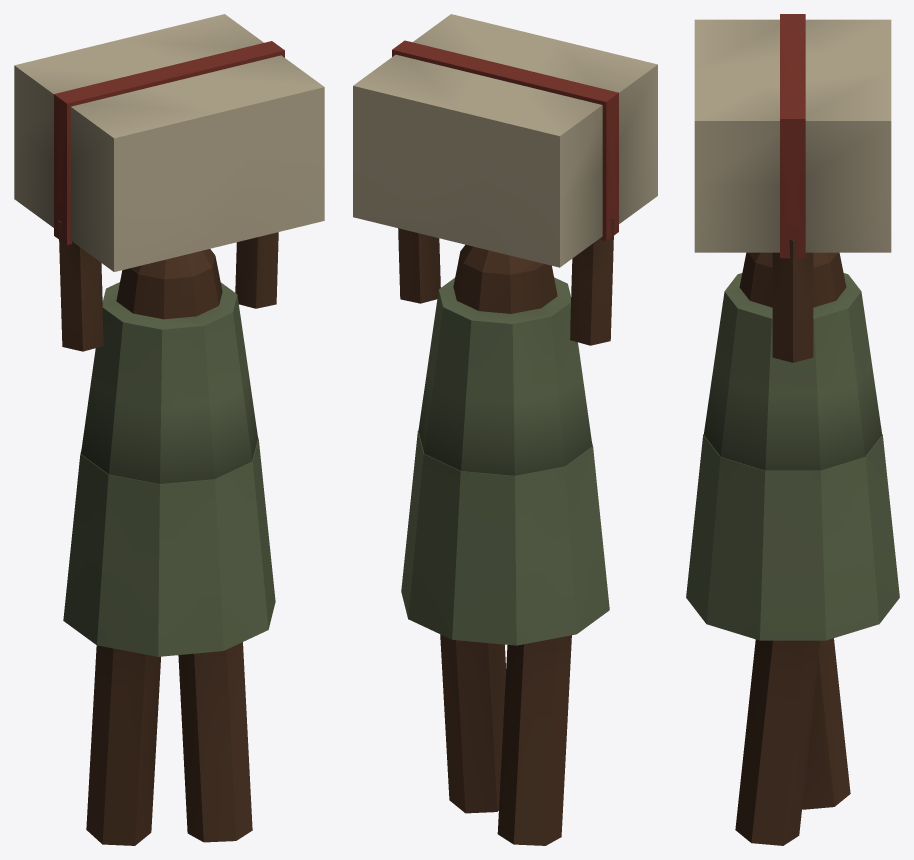
Rendered from porter.glb.
3 views of the same model, side by side, from view 1: azimuth 30°, elevation 25°; view 2: azimuth 150°, elevation 25°; view 3: azimuth 270°, elevation 25° (orthographic).
Parts seen in each view (by area): view 1: base; view 2: base; view 3: base.
Part boxes in pixels (x1=…): base: x1=14, y1=14, x2=324, y2=845; base: x1=353, y1=14, x2=657, y2=845; base: x1=686, y1=14, x2=899, y2=845.
Size of the model in its own units: 0.5899 by 1.94 by 0.4999.
